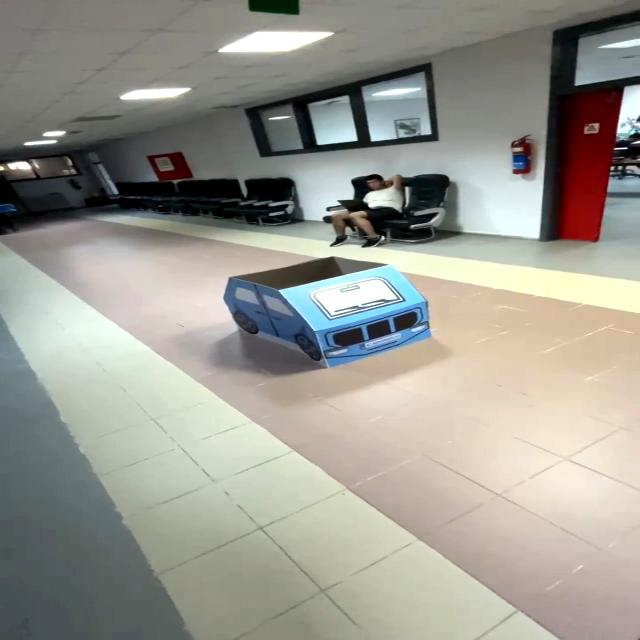blue_car: (201, 253, 441, 365)
